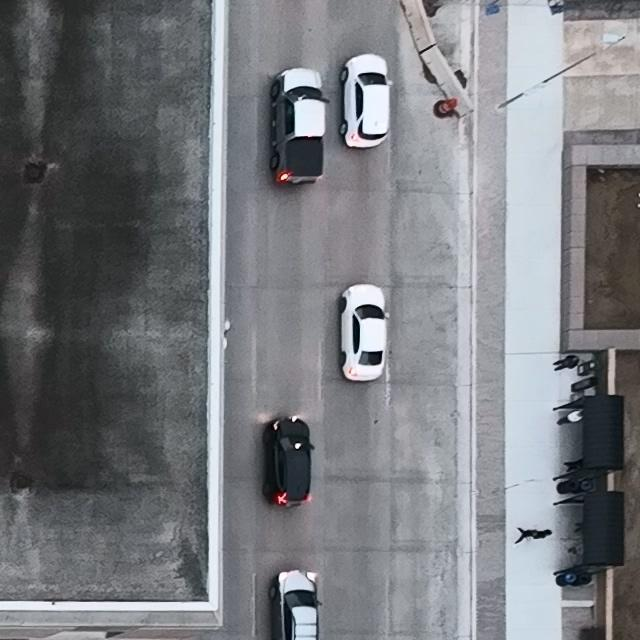car: (269, 68, 330, 187), (339, 53, 392, 150), (339, 283, 391, 381), (263, 416, 315, 508), (269, 569, 322, 640)
